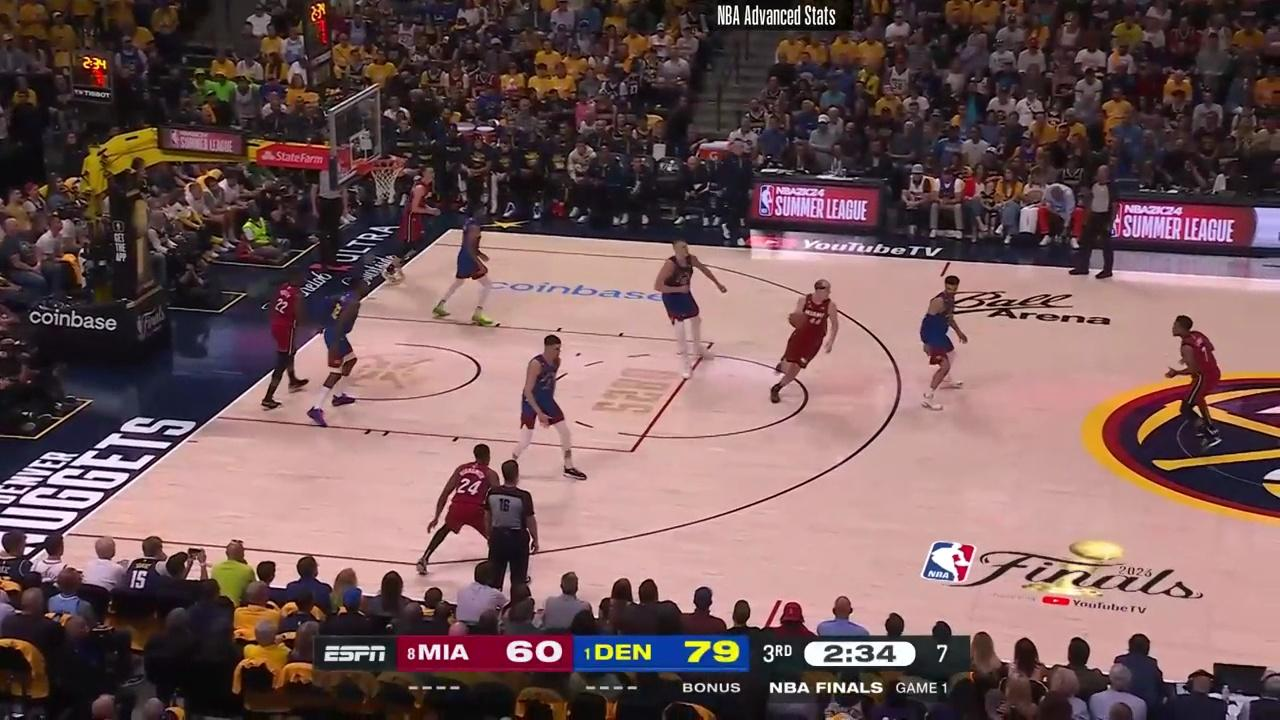Backboard: (325, 87, 382, 188)
Ball: (789, 311, 806, 328)
Basket: (367, 157, 404, 205)
Person: (412, 442, 501, 580), (508, 327, 585, 481), (304, 278, 372, 428), (770, 274, 845, 409), (659, 236, 724, 370), (913, 274, 972, 409), (1171, 315, 1233, 442), (434, 206, 497, 329), (261, 262, 306, 420), (382, 166, 437, 290)
Referee: (484, 460, 545, 608), (1076, 163, 1121, 280)
Shot Clock: (298, 0, 337, 90), (70, 51, 121, 112)
